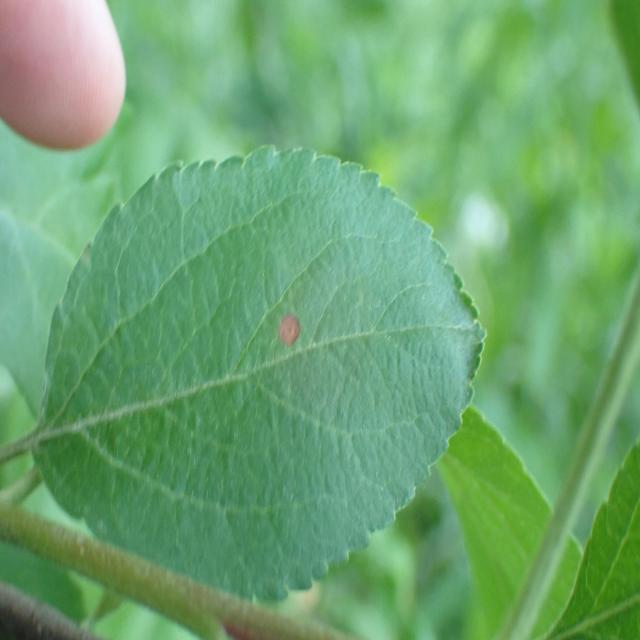Black Rot: (273, 288, 308, 371)
